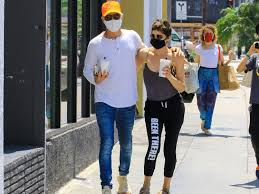mask: (104, 19, 123, 32), (150, 38, 166, 49)
